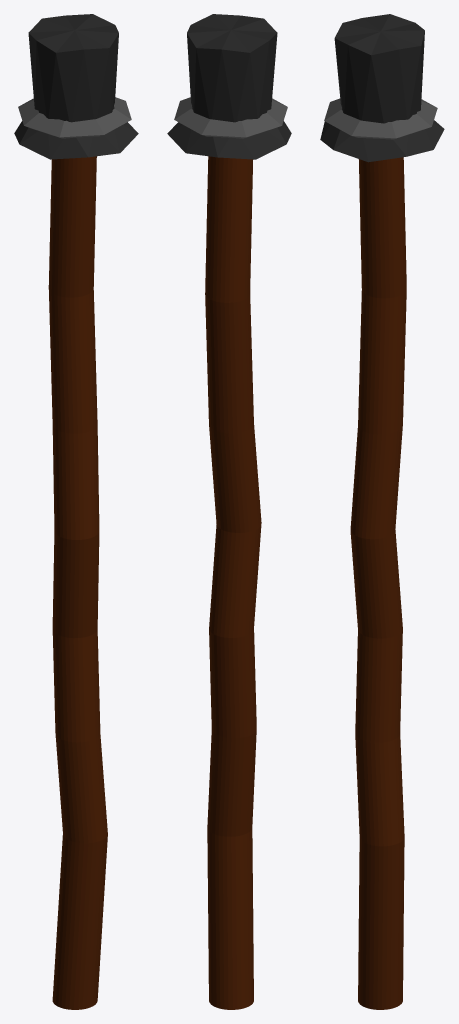
File: torch01.glb
3 renders of one model, left to right at view 1: azimuth 30°, elevation 25°; view 2: azimuth 150°, elevation 25°; view 3: azimuth 330°, elevation 25°, orthographic.
Parts seen in each view (by area): view 1: Cylinder, Icosphere, Torus.003; view 2: Cylinder, Icosphere, Torus.003; view 3: Cylinder, Icosphere, Torus.003.
Boxes of the visible parts, x1,y1,x2,y2 form: Cylinder: (48, 156, 107, 1009); Icosphere: (14, 14, 138, 159); Torus.003: (18, 97, 131, 138); Cylinder: (205, 156, 261, 1009); Icosphere: (167, 14, 291, 159); Torus.003: (174, 97, 287, 138); Cylinder: (350, 157, 406, 1009); Icosphere: (320, 14, 444, 162); Torus.003: (324, 98, 437, 139).
Size of the model in its own units: 0.6736 by 5.76 by 0.6567.
